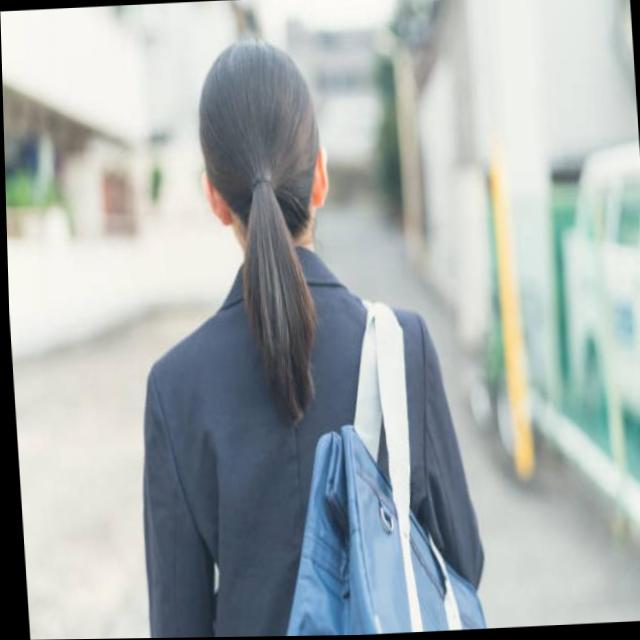no helmet: (188, 34, 333, 265)
